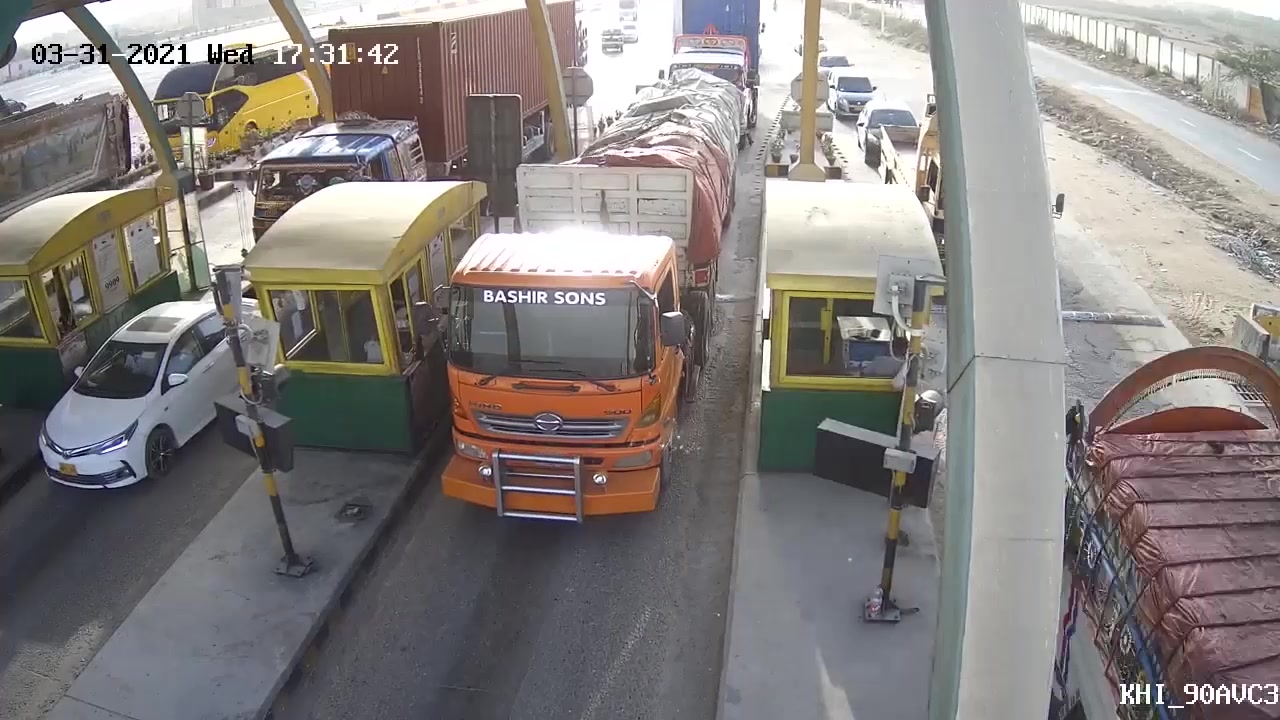F6: (433, 67, 761, 534)
